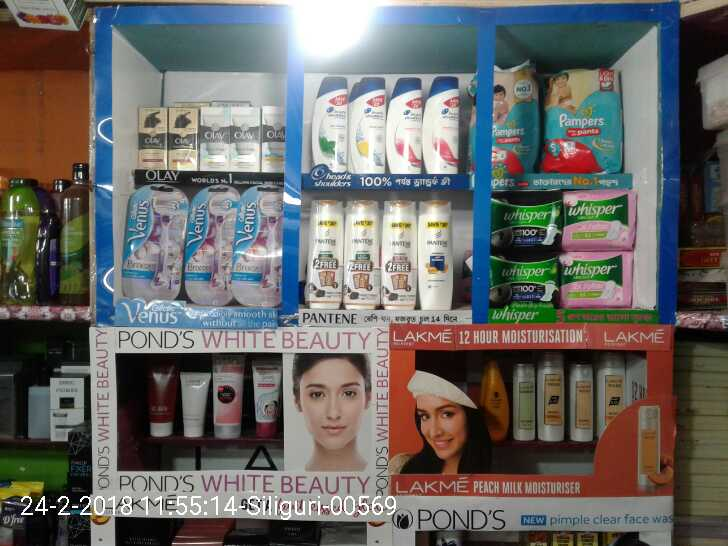venus: (122, 191, 189, 297), (233, 185, 283, 302), (189, 191, 233, 302)
